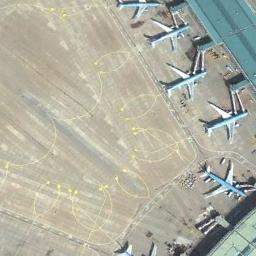Airplane: (193, 158, 251, 202), (199, 100, 252, 142), (160, 62, 210, 103), (144, 16, 190, 54)
